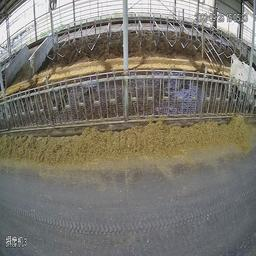cow: (228, 51, 256, 113)
